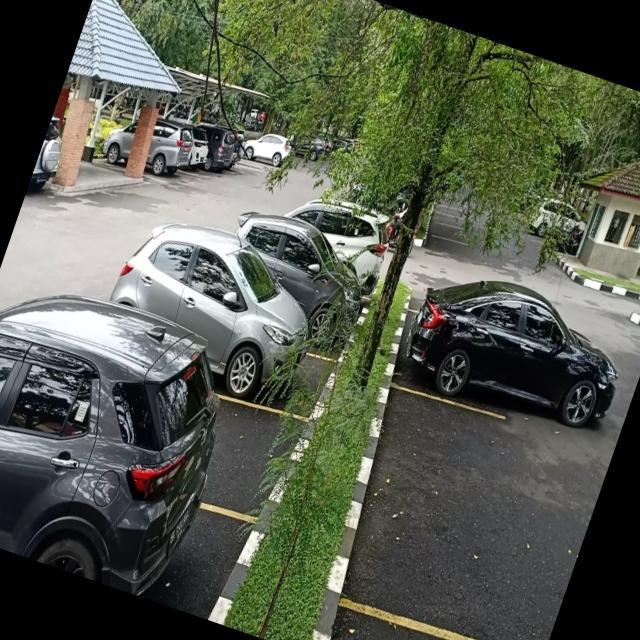empty: (324, 379, 612, 640)
occupied: (390, 291, 626, 457), (202, 279, 359, 426)
